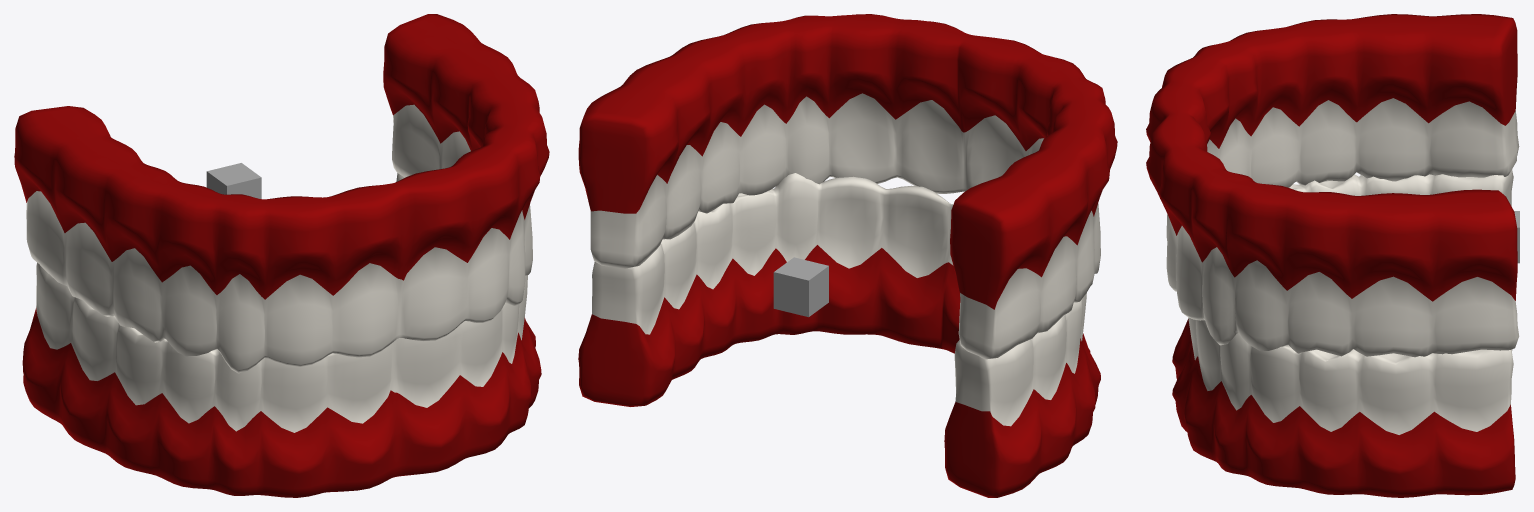
Rendered from TeethFBX.fbx.
The picture shows the model from 3 angles, left to right: view 1: azimuth 30°, elevation 25°; view 2: azimuth 150°, elevation 25°; view 3: azimuth 270°, elevation 25°; orthographic projection. The views are drawn at different scales.
Visible parts, largest first — view 1: TeethUpper, TeethLower, Controller; view 2: TeethUpper, TeethLower, Controller; view 3: TeethUpper, TeethLower.
Boxes of the visible parts, <box> form: TeethUpper: <box>14,14,549,373</box>; TeethLower: <box>22,173,541,497</box>; Controller: <box>206,163,261,198</box>; TeethUpper: <box>578,14,1117,359</box>; TeethLower: <box>578,173,1100,497</box>; Controller: <box>773,257,828,317</box>; TeethUpper: <box>1146,14,1519,357</box>; TeethLower: <box>1172,169,1515,497</box>.
Size of the model in its own units: 190 by 121 by 140.
